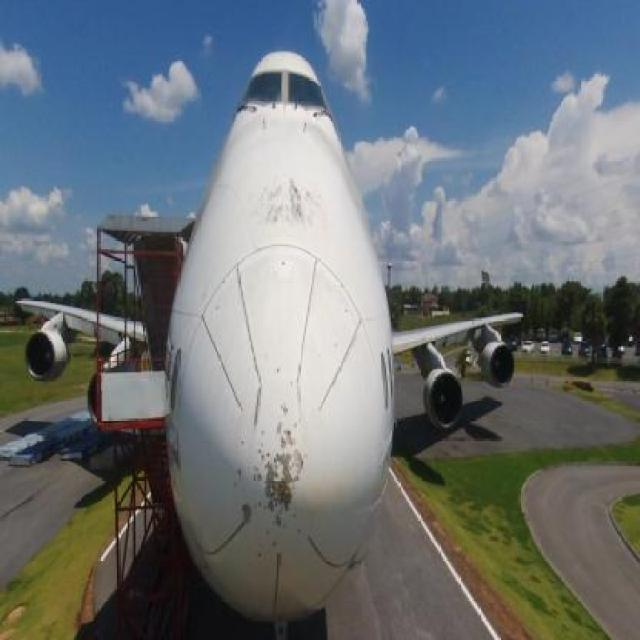Rust: (266, 458, 306, 534)
Scartch: (215, 373, 350, 599), (241, 163, 350, 269), (172, 441, 191, 487)
